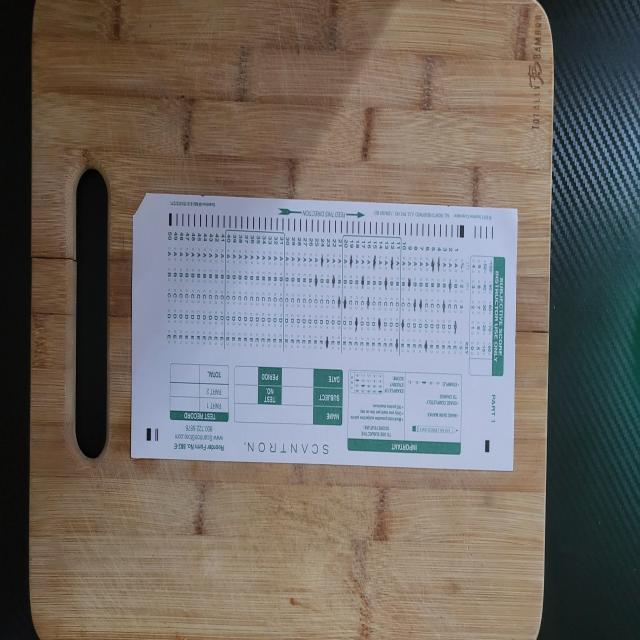scantron: (131, 193, 518, 472)
